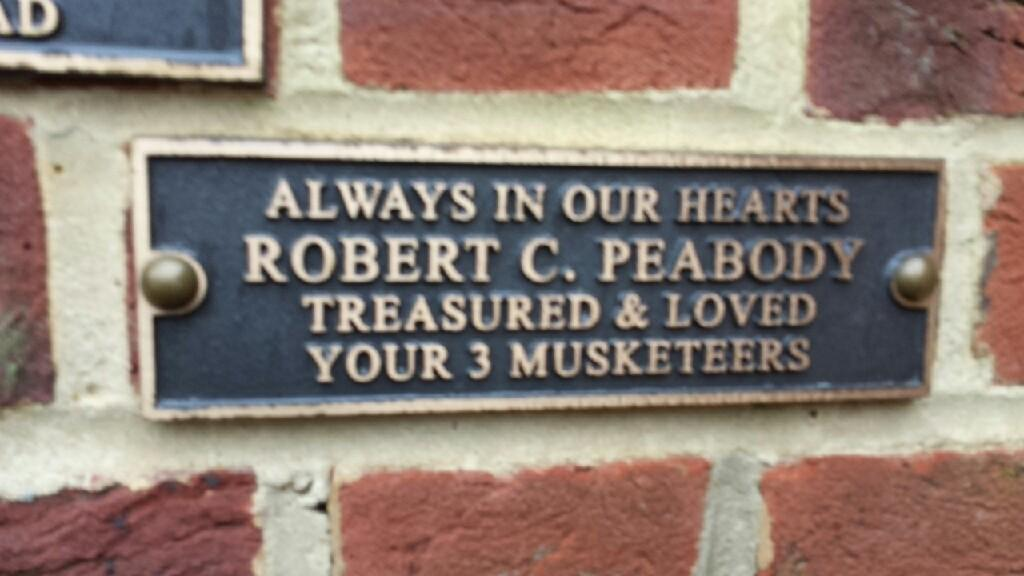plaque: (121, 118, 954, 421)
